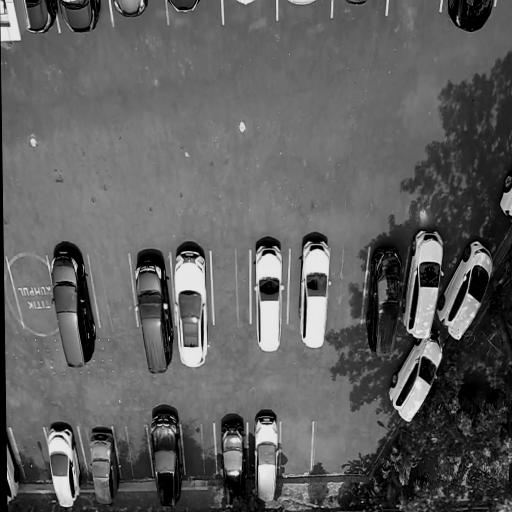Car: (434, 229, 502, 351), (46, 234, 102, 374), (385, 328, 451, 431), (399, 218, 448, 340), (359, 235, 406, 361), (172, 242, 212, 373), (132, 250, 172, 380), (291, 229, 332, 355), (250, 233, 285, 355), (145, 405, 183, 512), (42, 419, 85, 512), (215, 419, 249, 512), (84, 421, 121, 505), (254, 403, 281, 503), (446, 0, 496, 41), (6, 421, 25, 508), (58, 0, 100, 38), (20, 0, 60, 38), (111, 0, 149, 22), (166, 0, 209, 19), (500, 170, 512, 230)
Space Available: (5, 254, 56, 325), (327, 246, 368, 327), (91, 256, 134, 326), (211, 251, 249, 330), (12, 431, 52, 489), (114, 428, 153, 484), (183, 423, 217, 478), (280, 424, 313, 479), (388, 0, 443, 16)
